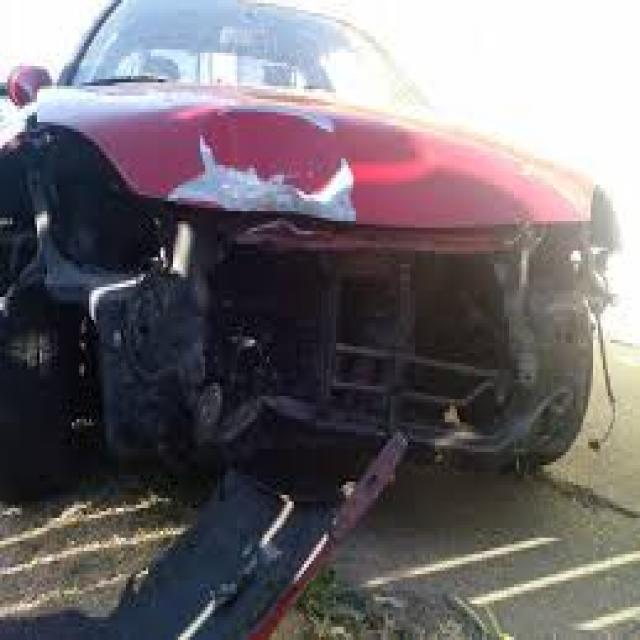severe: (3, 54, 620, 461)
